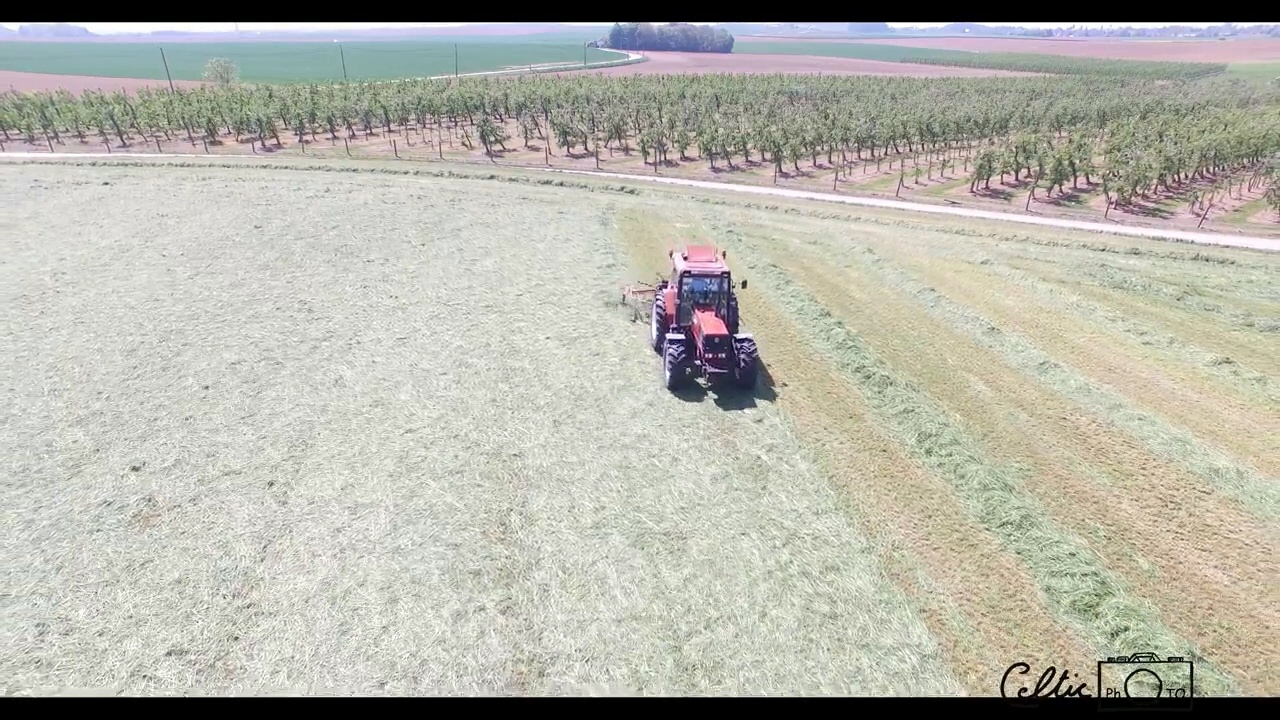traktor: (646, 241, 772, 398)
